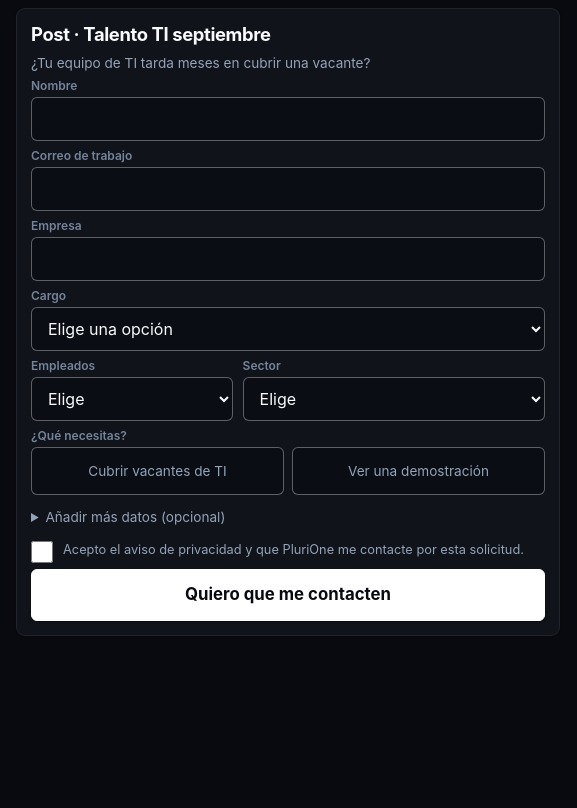
Test: la página de interés, solo con el teclado › al enviar en blanco, el foco va al primer campo que falta y lleva su error atado
The width and height of the screenshot is (577, 808).
Expected: the dropdown labelled "Cargo" is shown, [31,307,545,351]
Click the button "Quiero que me contacten". click: (288, 595)
box: [31,569,545,621]
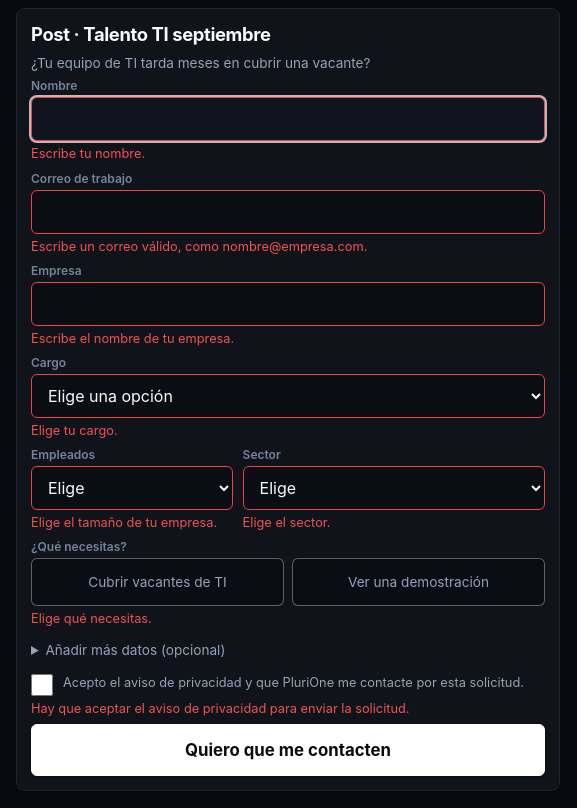
Expected: the text "Escribe tu nombre." is shown, [31,146,145,161]
